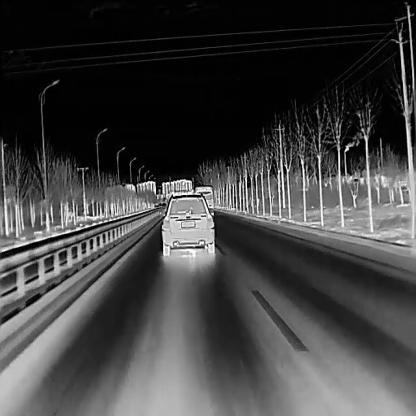car: (159, 189, 215, 256), (194, 184, 213, 217)
